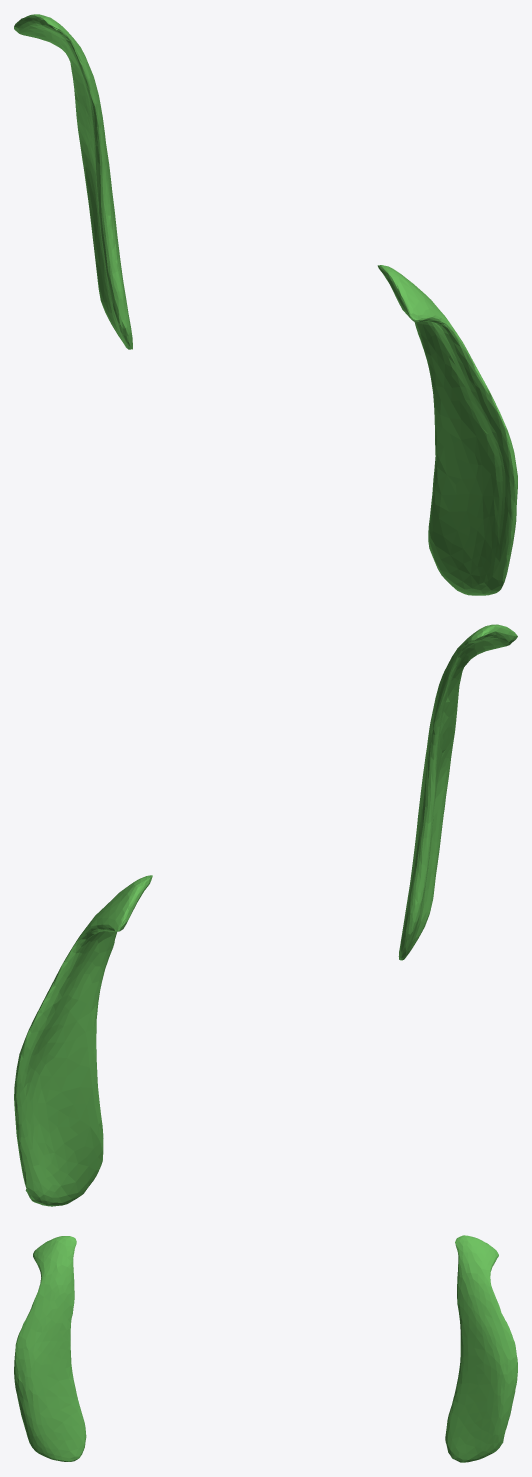
3 views of the same model, one above another, from view 1: azimuth 30°, elevation 25°; view 2: azimuth 150°, elevation 25°; view 3: azimuth 270°, elevation 25° (orthographic). The views are drawn at different scales.
Parts seen in each view (by area): view 1: 727.obj; view 2: 727.obj; view 3: 727.obj.
Part boxes in pixels (left/top/right/bottom): 727.obj: left=14, top=14, right=517, bottom=595; 727.obj: left=14, top=624, right=517, bottom=1206; 727.obj: left=14, top=1235, right=517, bottom=1462.
Size of the model in its own units: 1101 by 3628 by 8146.
